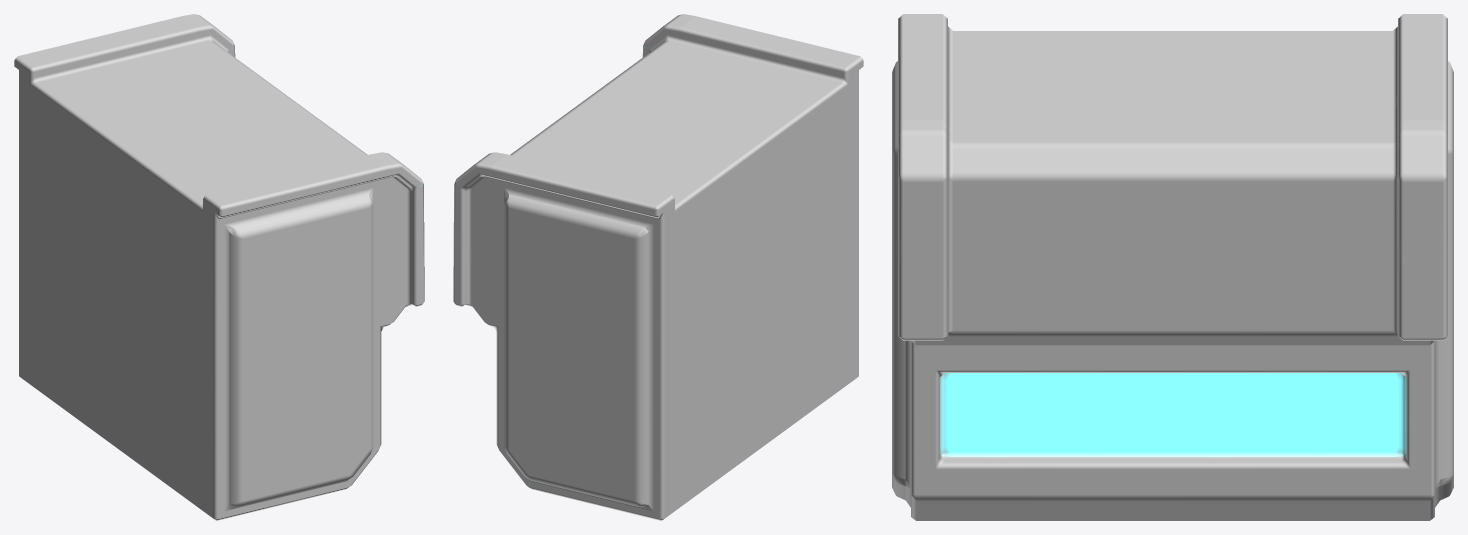
The model's file is SM_3DT_Wall_Prop_05.fbx.
The picture shows the model from 3 angles, left to right: view 1: azimuth 30°, elevation 25°; view 2: azimuth 150°, elevation 25°; view 3: azimuth 270°, elevation 25°; orthographic projection. The views are drawn at different scales.
Parts seen in each view (by area): view 1: SM_3DT_Wall_Prop_05; view 2: SM_3DT_Wall_Prop_05; view 3: SM_3DT_Wall_Prop_05.
Part boxes in pixels (left/top/right/bottom): SM_3DT_Wall_Prop_05: left=14, top=14, right=424, bottom=520; SM_3DT_Wall_Prop_05: left=453, top=14, right=863, bottom=520; SM_3DT_Wall_Prop_05: left=892, top=14, right=1453, bottom=520.
Bounding box in the file's own units: 25.71 × 37.9 × 45.64.
